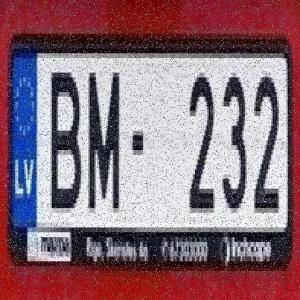Plate: (6, 18, 298, 288)
